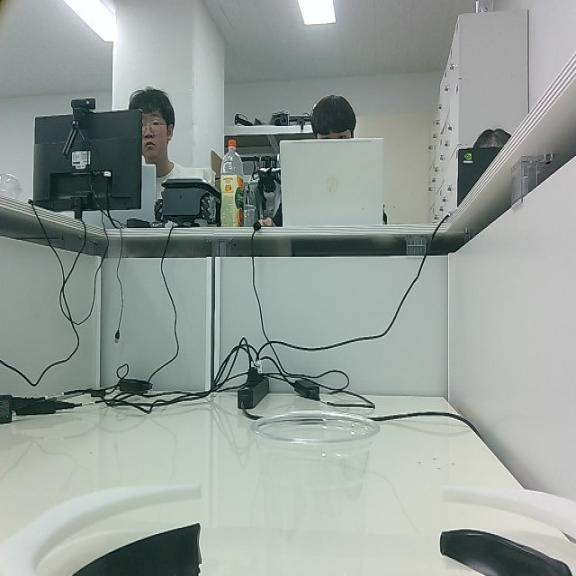Plastik: (251, 410, 377, 576)
